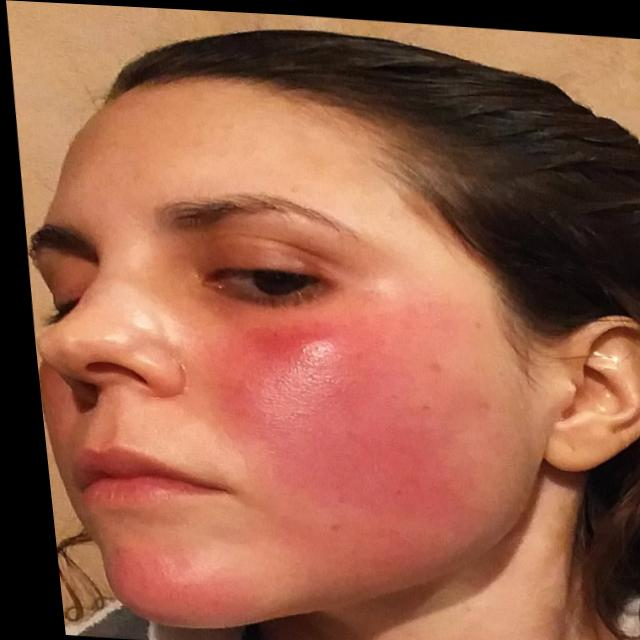skinredness: (187, 316, 398, 470)
